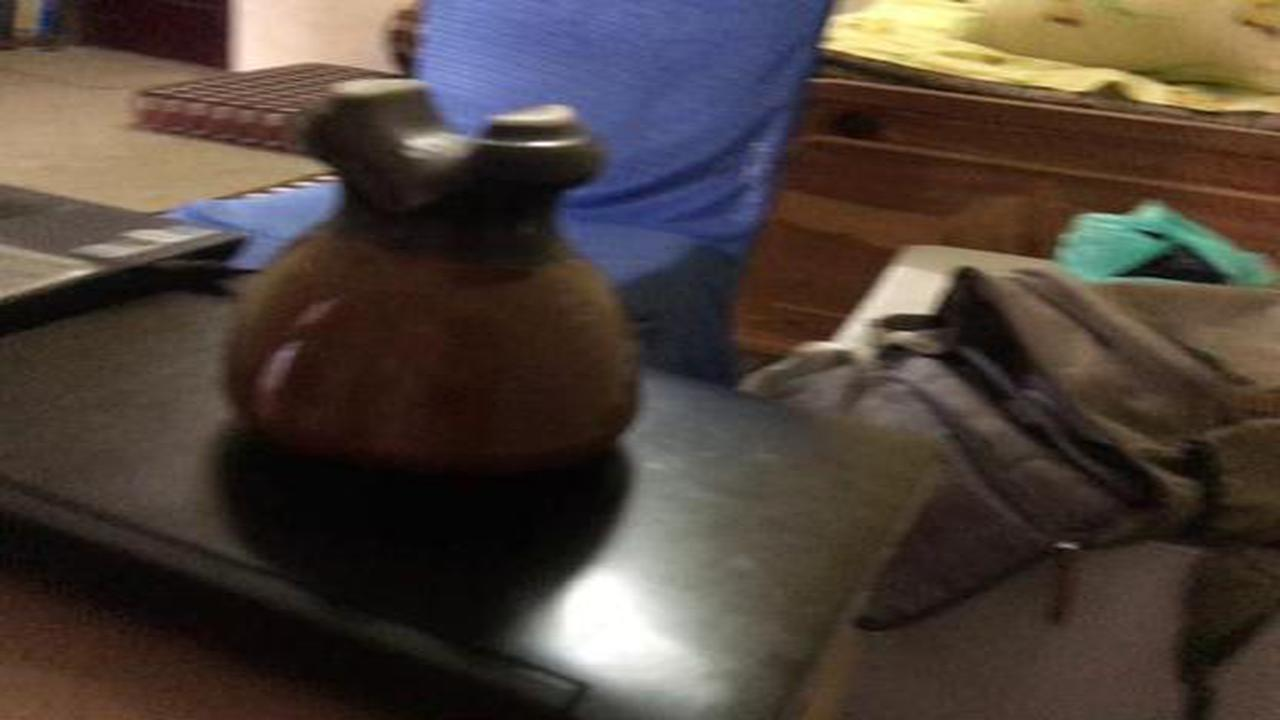insulator_pin: (187, 58, 696, 508)
